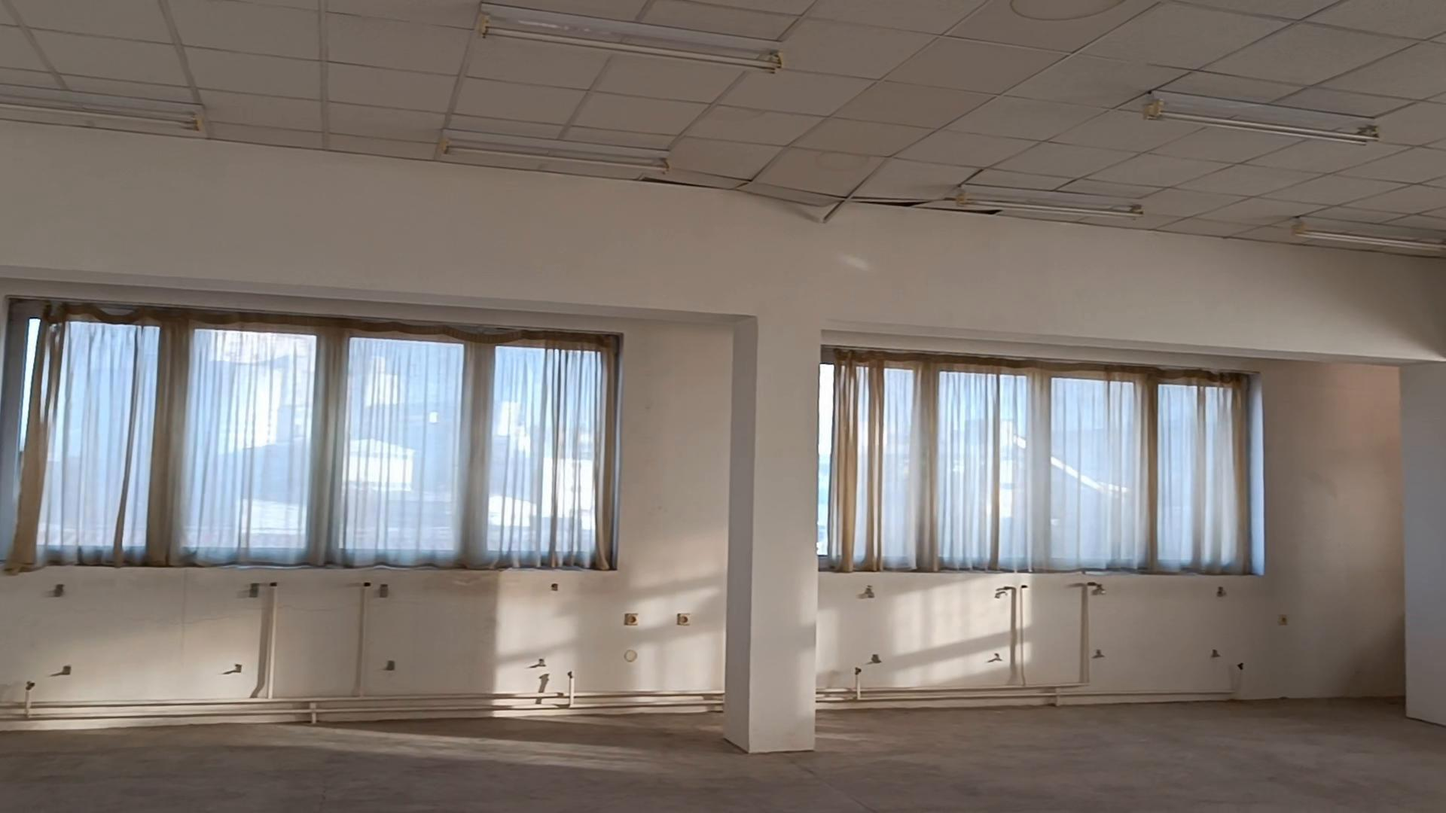ceiling: (0, 0, 1445, 253)
floor: (0, 700, 1445, 812)
wall: (0, 122, 1445, 748), (1, 577, 616, 704)
